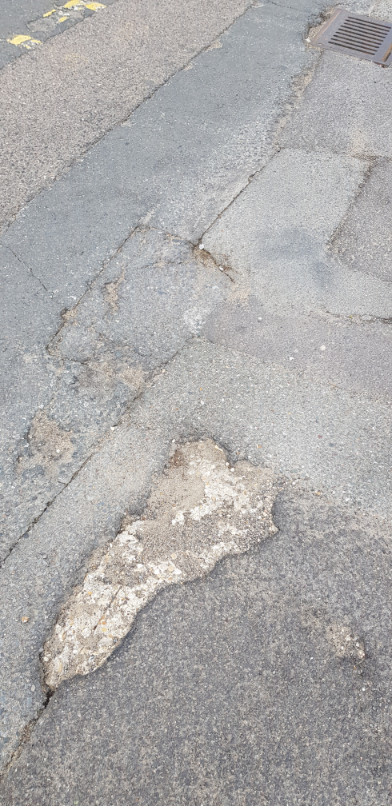pothole: (28, 420, 282, 690)
